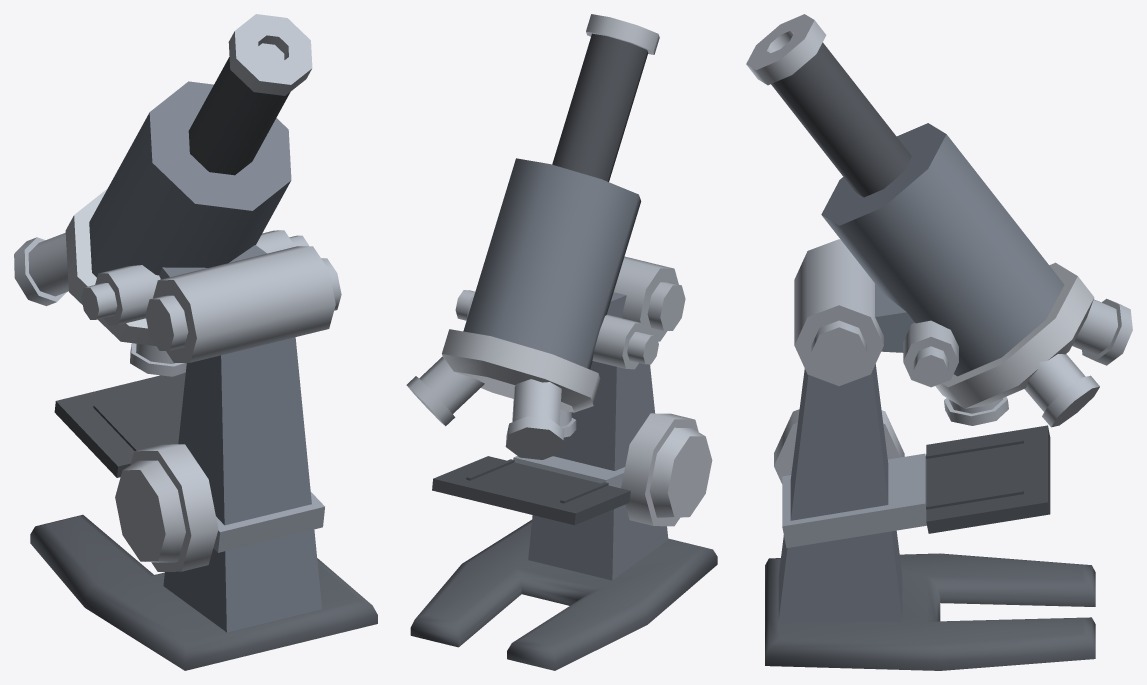
The model's file is lab-microscope.glb.
3 renders of one model, left to right at view 1: azimuth 30°, elevation 25°; view 2: azimuth 150°, elevation 25°; view 3: azimuth 270°, elevation 25°, orthographic. The views are drawn at different scales.
Visible parts, largest first — view 1: machine_microscope; view 2: machine_microscope; view 3: machine_microscope.
Part boxes in pixels (x1=…): machine_microscope: x1=14, y1=14, x2=377, y2=670; machine_microscope: x1=406, y1=14, x2=717, y2=670; machine_microscope: x1=746, y1=14, x2=1132, y2=670.
Size of the model in its own units: 16.02 by 44.03 by 25.73.
1 material, 1 textured.
